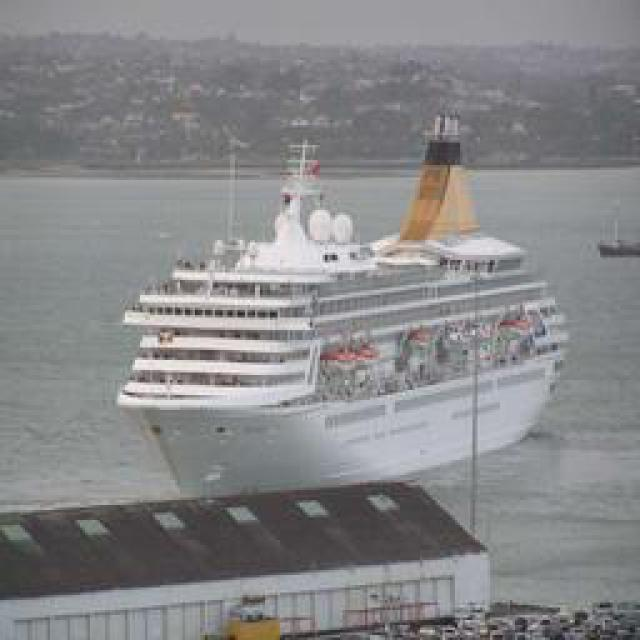Ship: (104, 106, 569, 526)
